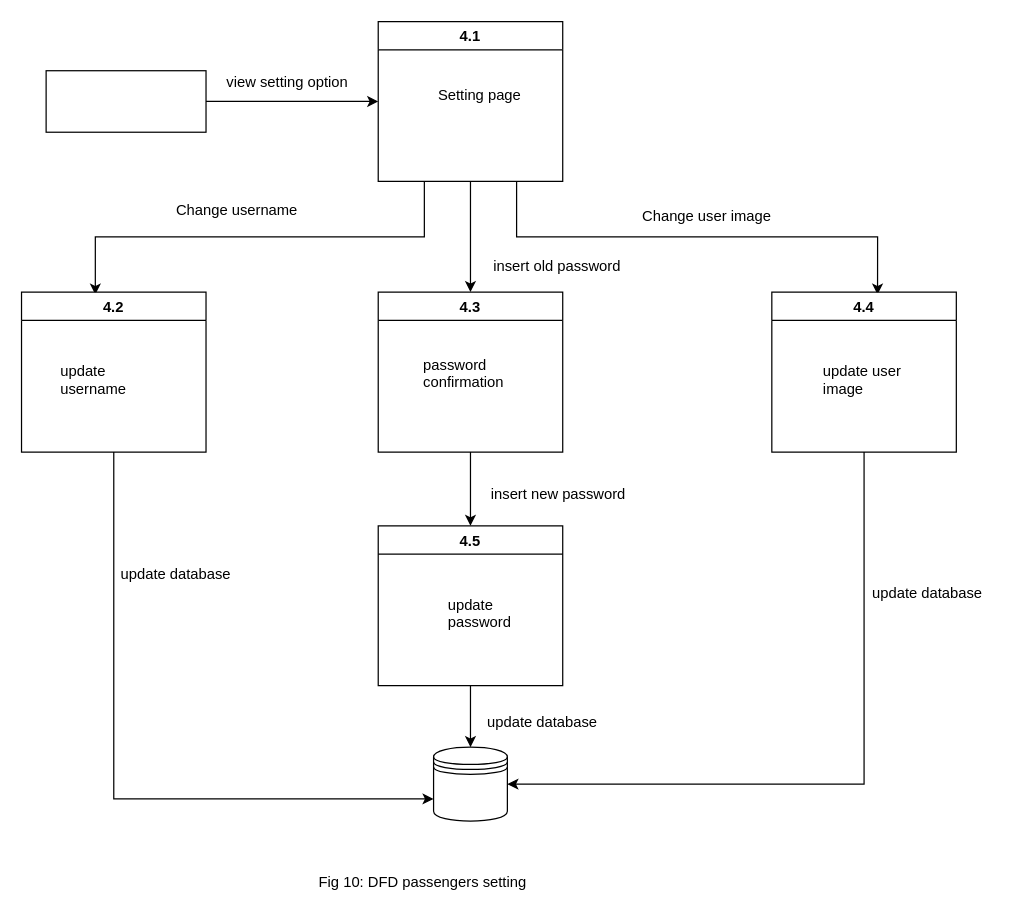
The diagram is 1015 pixels wide and 916 high, and some of its shapes have lost their labels. Each missing label, with the centre of its shape:
"Passengers" belongs at pixel 125 100.
"users" belongs at pixel 469 783.
